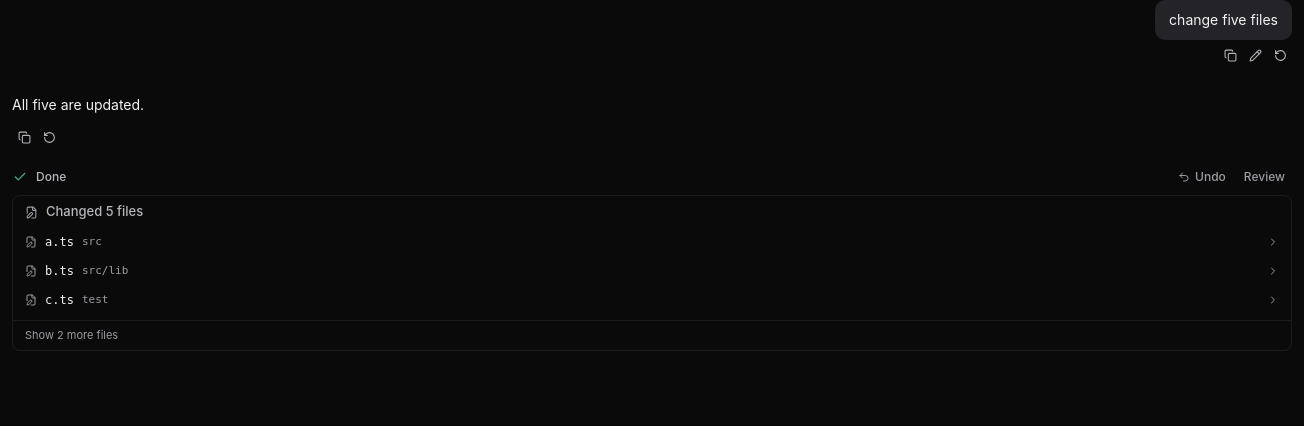
Test: AgentTimeline › reviews a turn's changed files in a card, with the rest on request
Later steps or results of the test are not shown.
Check: the text "Changed 5 files" is shown, box [46, 202, 143, 222]
Check: the number of buttons with class "change-row" is 3, box [19, 228, 1285, 256]; [19, 257, 1285, 285]; [19, 286, 1285, 314]
Click the button "Show 2 more files" at (72, 335), box [13, 320, 1291, 350]
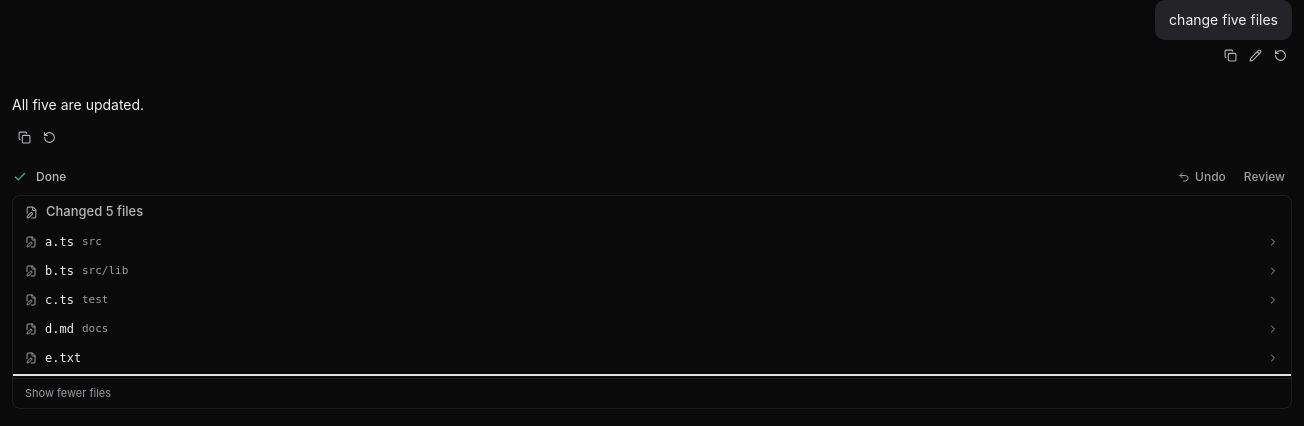
Check: the number of buttons with class "change-row" is 5, box [19, 228, 1285, 256]; [19, 257, 1285, 285]; [19, 286, 1285, 314]; [19, 315, 1285, 343]; [19, 344, 1285, 372]
Check: the button "Show fewer files" is expanded, box [13, 378, 1291, 408]
